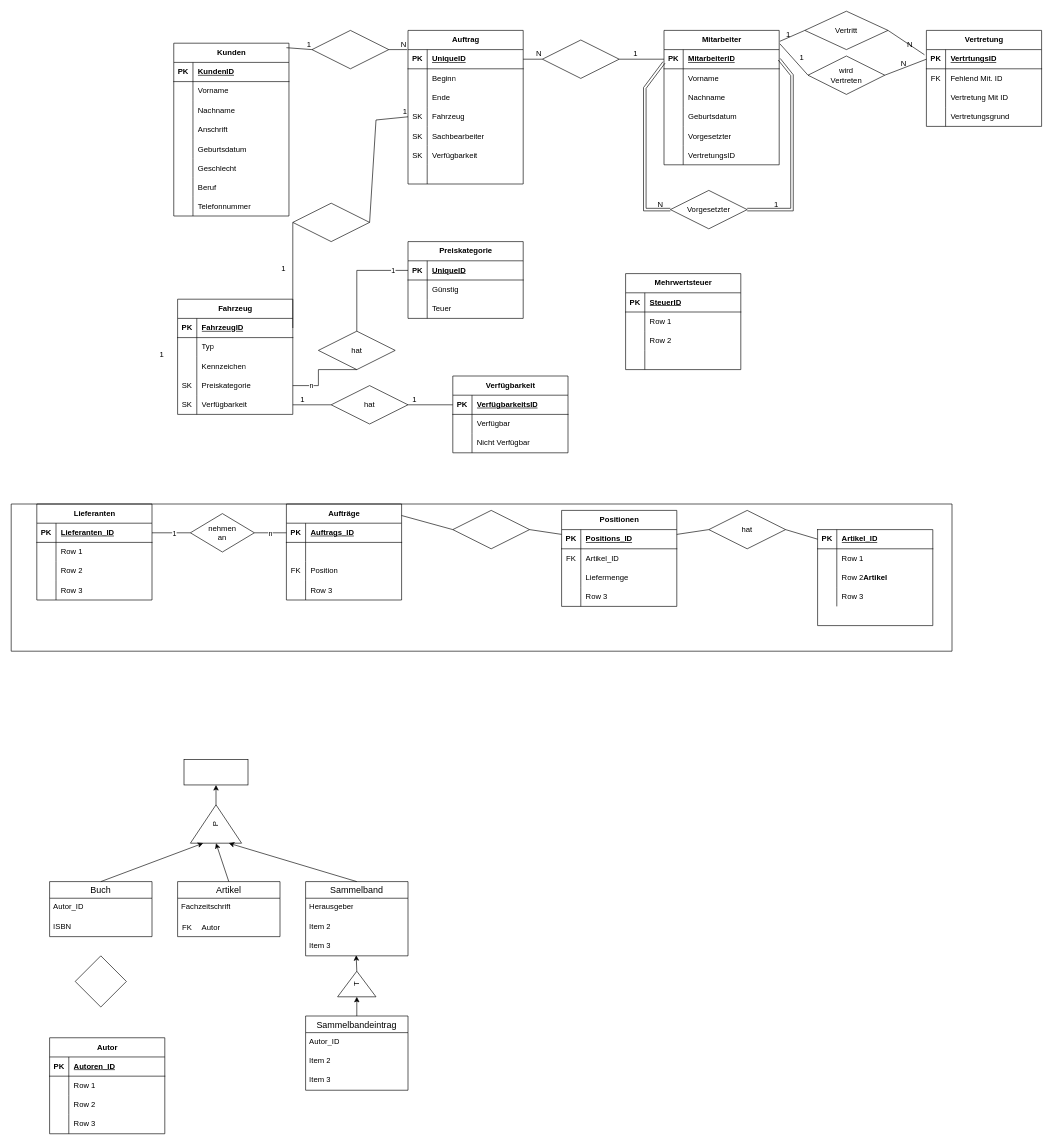
Image size: 1053x1145. Some labels were removed from this diagram. Here are the shapes that lost their labels. From the top down, the centre of each, then its label:
At pixel 350 49: "Erteilt".
At pixel 580 58: "betreut".
At pixel 331 222: "enthält".
At pixel 491 529: "beinhaltet".
At pixel 215 772: "Veröffentlichung".
At pixel 100 981: "Wird verfasst von".
